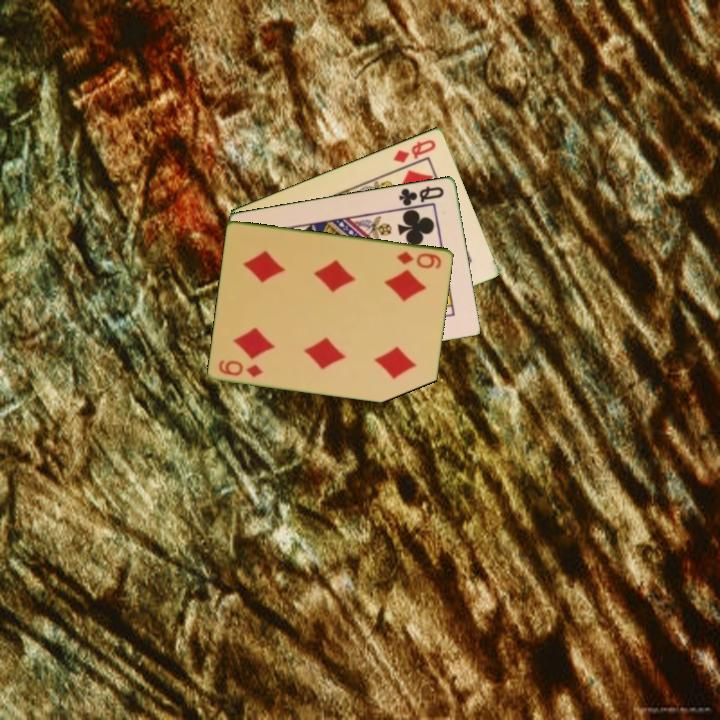6d: (215, 356, 266, 380), (394, 248, 444, 271)
Qc: (395, 182, 447, 209)
Qd: (390, 135, 439, 166)
